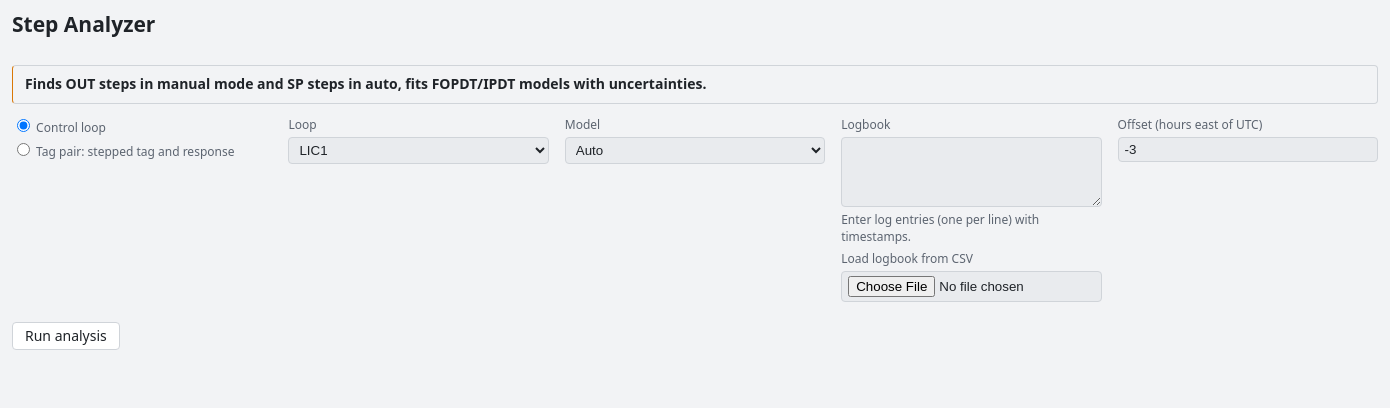
it: empty and failing payloads › shows the server message in an alert when the request fails
The width and height of the screenshot is (1390, 408).
Click the button "Run analysis".
click(66, 336)  # box [12,322,120,350]
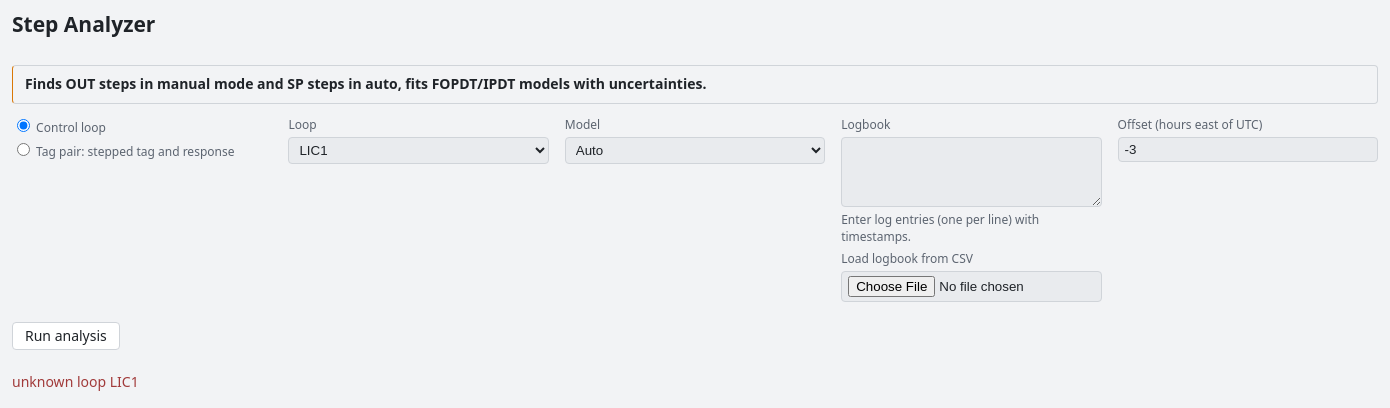
Now the message reads "unknown loop LIC1", box [12,372,139,391]
